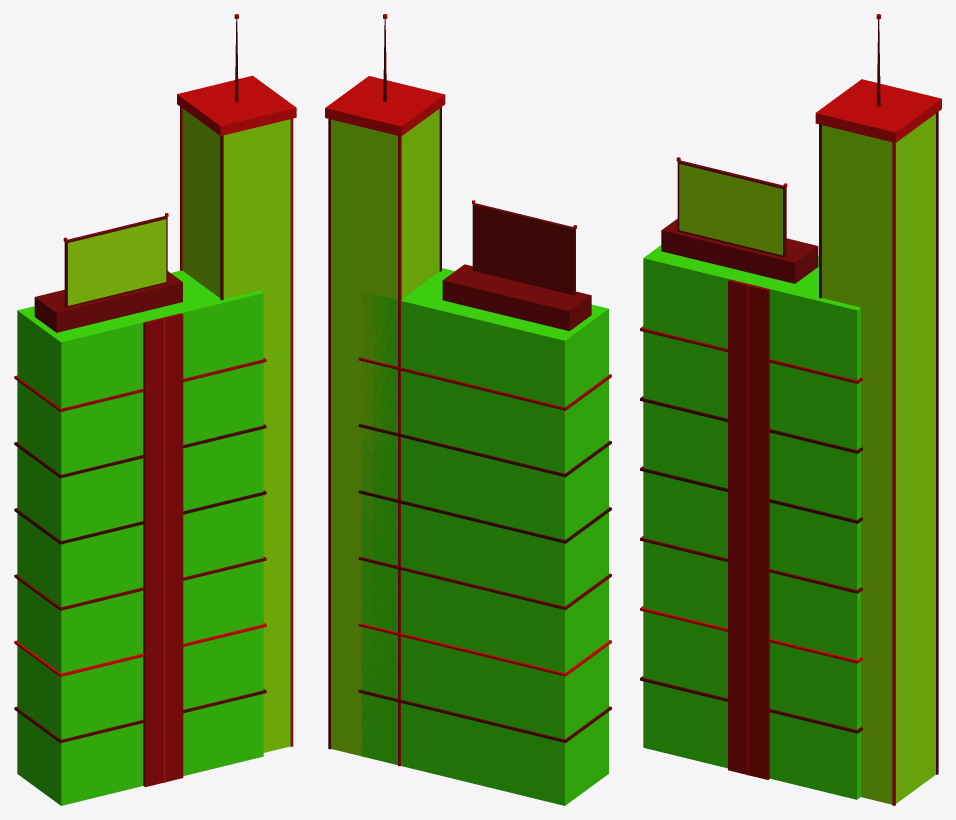
File: tower_c.glb
3 renders of one model, left to right at view 1: azimuth 30°, elevation 25°; view 2: azimuth 150°, elevation 25°; view 3: azimuth 330°, elevation 25°, orthographic. The views are drawn at different scales.
Visible parts, largest first — view 1: tower_c; view 2: tower_c; view 3: tower_c.
Part boxes in pixels (left/top/right/bottom): tower_c: left=14, top=14, right=296, bottom=805; tower_c: left=325, top=14, right=611, bottom=805; tower_c: left=640, top=14, right=941, bottom=805.
Size of the model in its own units: 75.6 by 219 by 26.1.
